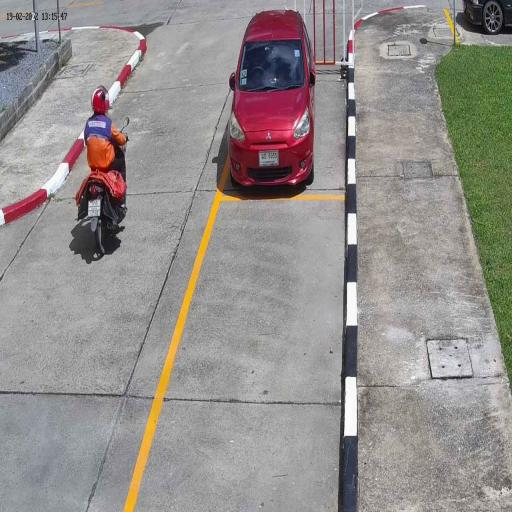car: (227, 8, 316, 188)
motorcycle: (85, 166, 128, 258)
